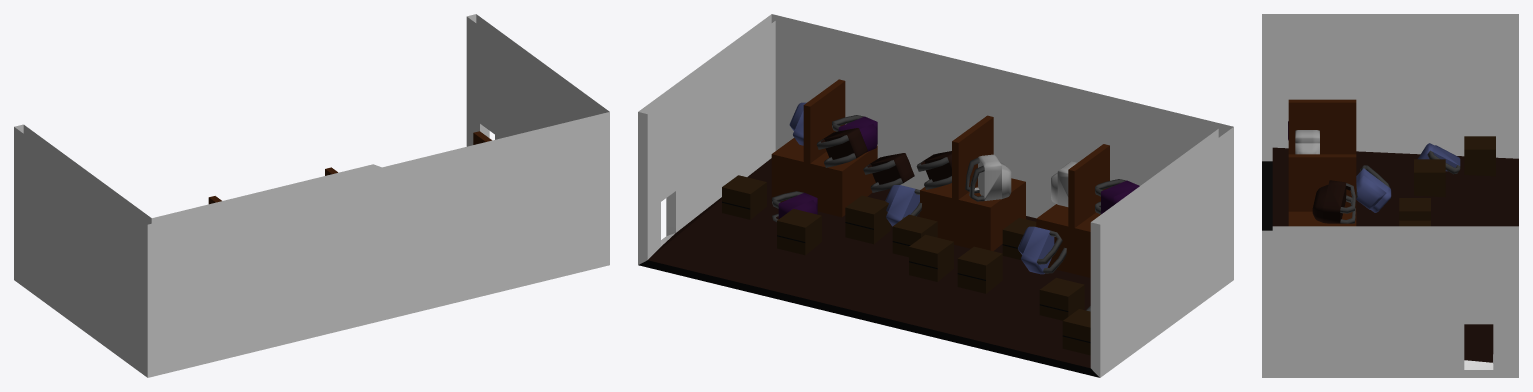
Rendered from mart3_3.FBX.
3 views of the same model, side by side, from view 1: azimuth 30°, elevation 25°; view 2: azimuth 150°, elevation 25°; view 3: azimuth 270°, elevation 25° (orthographic). The views are drawn at different scales.
Visible parts, largest first — view 1: Box008; view 2: Box008; view 3: Box008.
Boxes of the visible parts, x1,y1,x2,y2 form: Box008: (14,14,609,377); Box008: (638,14,1233,377); Box008: (1262,14,1518,377).
Bounding box in the file's own units: 1500 × 489 × 752.
